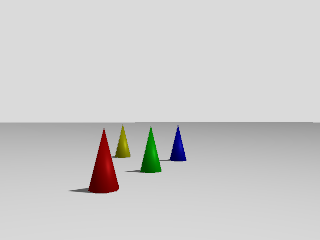blue: (168, 125, 187, 161)
green: (138, 126, 162, 173)
red: (84, 128, 119, 193)
yellow: (114, 123, 131, 158)
